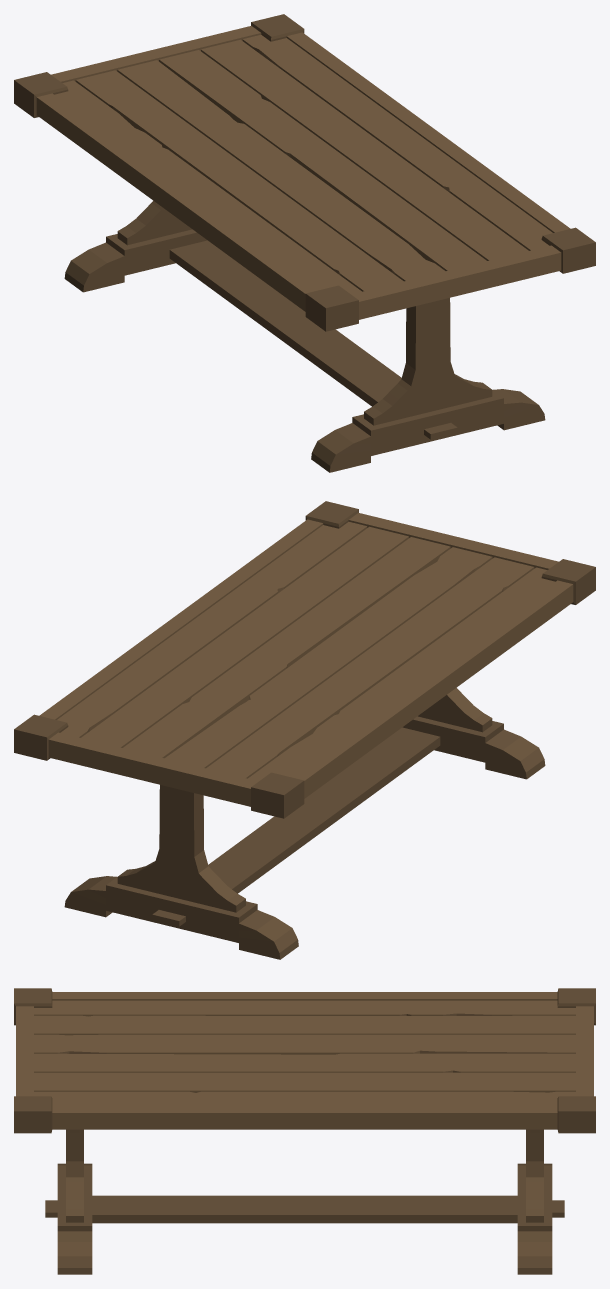
The model's file is wooden_table.glb.
3 views of the same model, one above another, from view 1: azimuth 30°, elevation 25°; view 2: azimuth 150°, elevation 25°; view 3: azimuth 270°, elevation 25° (orthographic). The views are drawn at different scales.
Visible parts, largest first — view 1: Table; view 2: Table; view 3: Table.
Boxes of the visible parts, bbox=[...] form: Table: bbox=[14, 14, 595, 472]; Table: bbox=[14, 501, 595, 959]; Table: bbox=[14, 988, 595, 1274].
Size of the model in its own units: 1.5 by 1 by 3.
